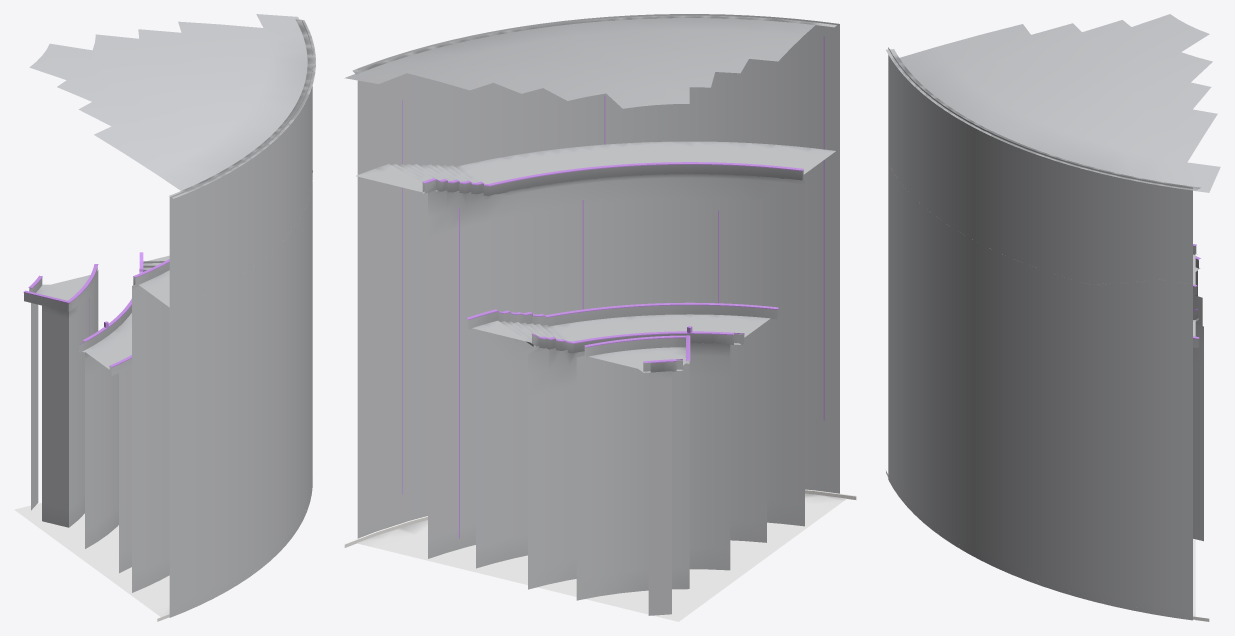
File: crypt_10_ai.glb
3 views of the same model, side by side, from view 1: azimuth 30°, elevation 25°; view 2: azimuth 150°, elevation 25°; view 3: azimuth 270°, elevation 25° (orthographic). The views are drawn at different scales.
Parts seen in each view (by area): view 1: crypt_10_ai; view 2: crypt_10_ai; view 3: crypt_10_ai.
Part boxes in pixels (bbox=[...]): crypt_10_ai: bbox=[14, 14, 315, 621]; crypt_10_ai: bbox=[344, 14, 856, 621]; crypt_10_ai: bbox=[885, 14, 1220, 621].
Size of the model in its own units: 32.89 by 47.58 by 31.2.
